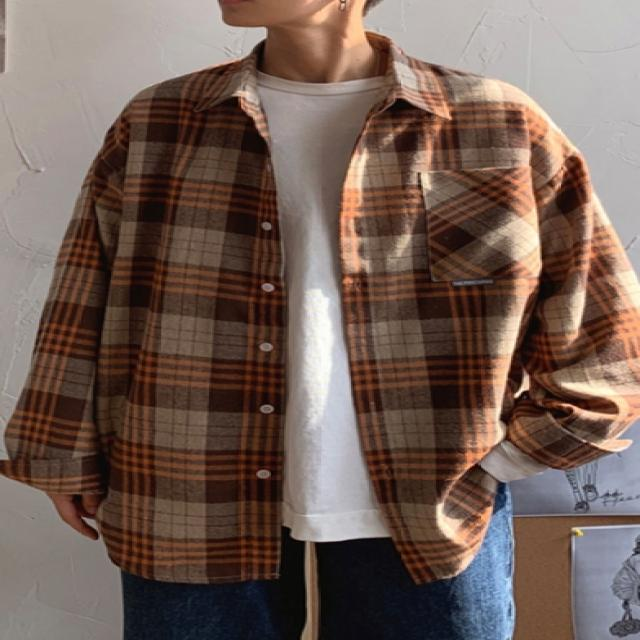plaid: (7, 54, 640, 562)
